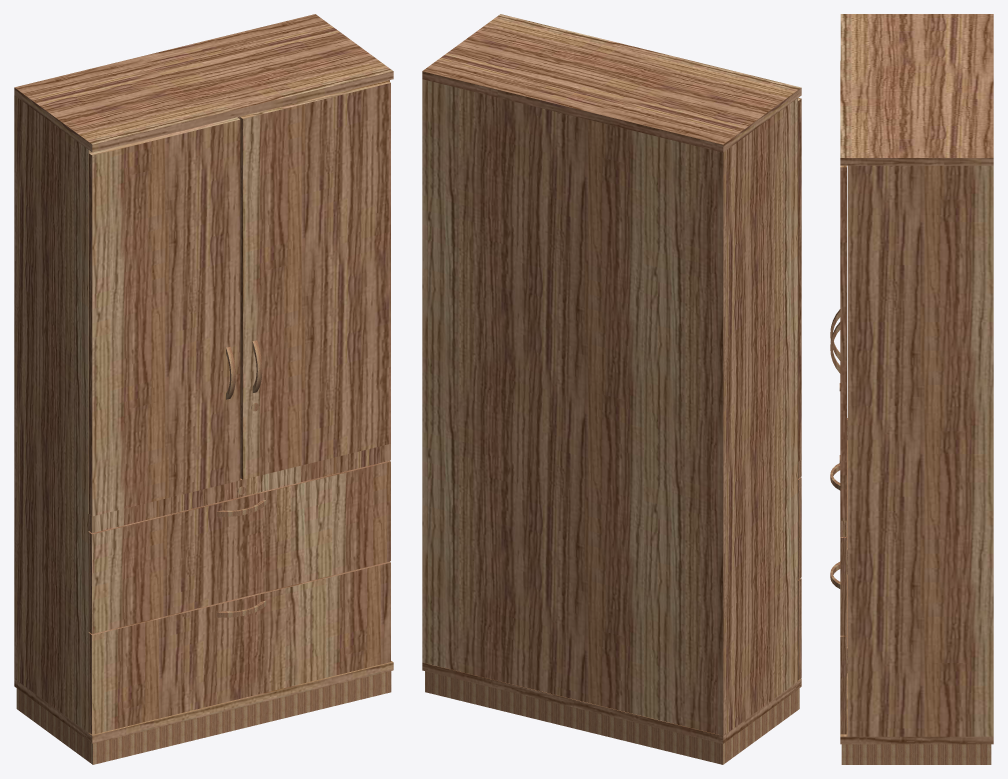
The model's file is baseline_5OH_45x100_hanging_frame_hinged_door_combined_finala.fbx.
The picture shows the model from 3 angles, left to right: view 1: azimuth 30°, elevation 25°; view 2: azimuth 150°, elevation 25°; view 3: azimuth 270°, elevation 25°; orthographic projection. The views are drawn at different scales.
Parts seen in each view (by area): view 1: drewno_mesh (×5), drewno_mesh2, metal_mesh; view 2: drewno_mesh, metal_mesh, drewno_mesh2; view 3: drewno_mesh (×4), metal_mesh.
Boxes of the visible parts, x1=… form: drewno_mesh (×5): x1=14, y1=14, x2=393, y2=743; drewno_mesh2: x1=89, y1=117, x2=240, y2=516; metal_mesh: x1=16, y1=671, x2=391, y2=764; drewno_mesh: x1=422, y1=14, x2=801, y2=743; metal_mesh: x1=425, y1=671, x2=799, y2=764; drewno_mesh2: x1=798, y1=98, x2=801, y2=461; drewno_mesh (×4): x1=840, y1=14, x2=993, y2=744; metal_mesh: x1=841, y1=744, x2=991, y2=764.
Size of the model in its own units: 254 by 501 by 122.
